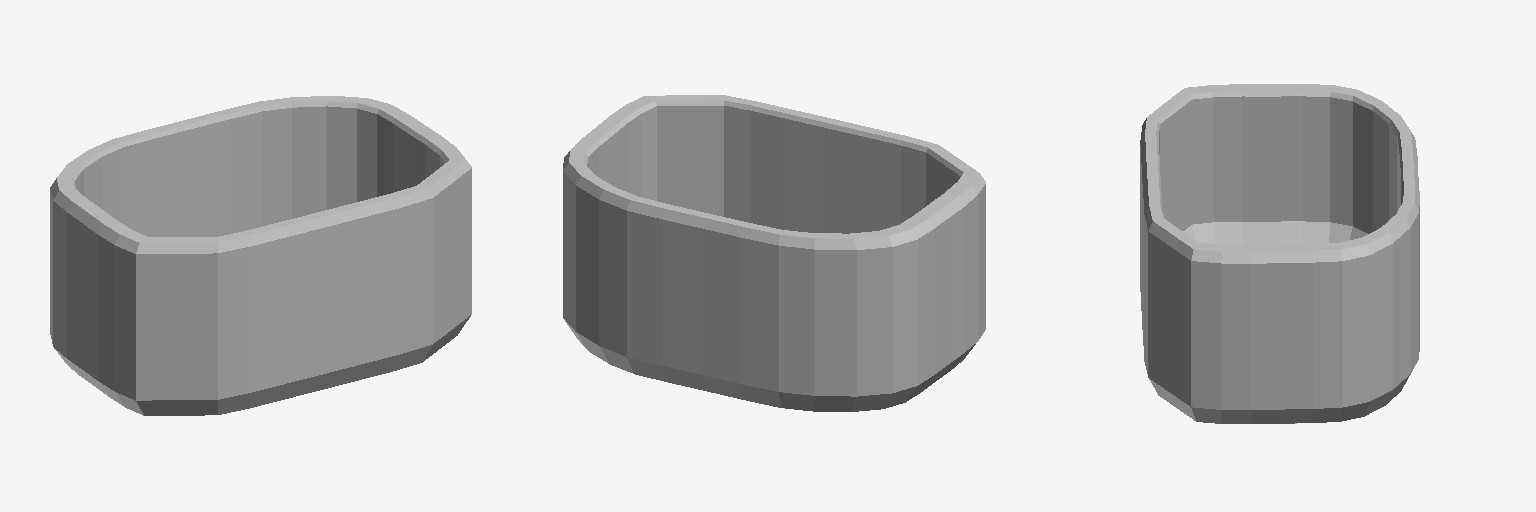
The model's file is basket.obj.
The picture shows the model from 3 angles: view 1: azimuth 30°, elevation 25°; view 2: azimuth 150°, elevation 25°; view 3: azimuth 270°, elevation 25°; orthographic projection.
Parts seen in each view (by area): view 1: Circle; view 2: Circle; view 3: Circle.
Boxes of the visible parts, box(x1,y1,x2,y2) form: Circle: box(50, 96, 471, 415); Circle: box(563, 95, 985, 411); Circle: box(1140, 84, 1419, 423).
Bounding box in the file's own units: 0.3392 × 0.1605 × 0.2308.